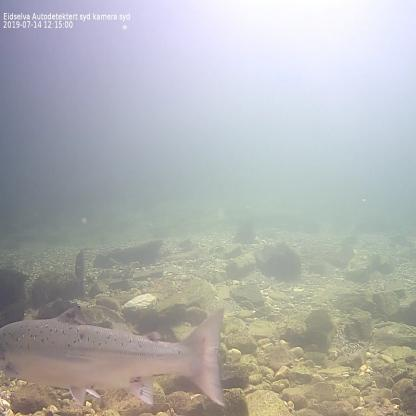salmon: (0, 300, 230, 411)
